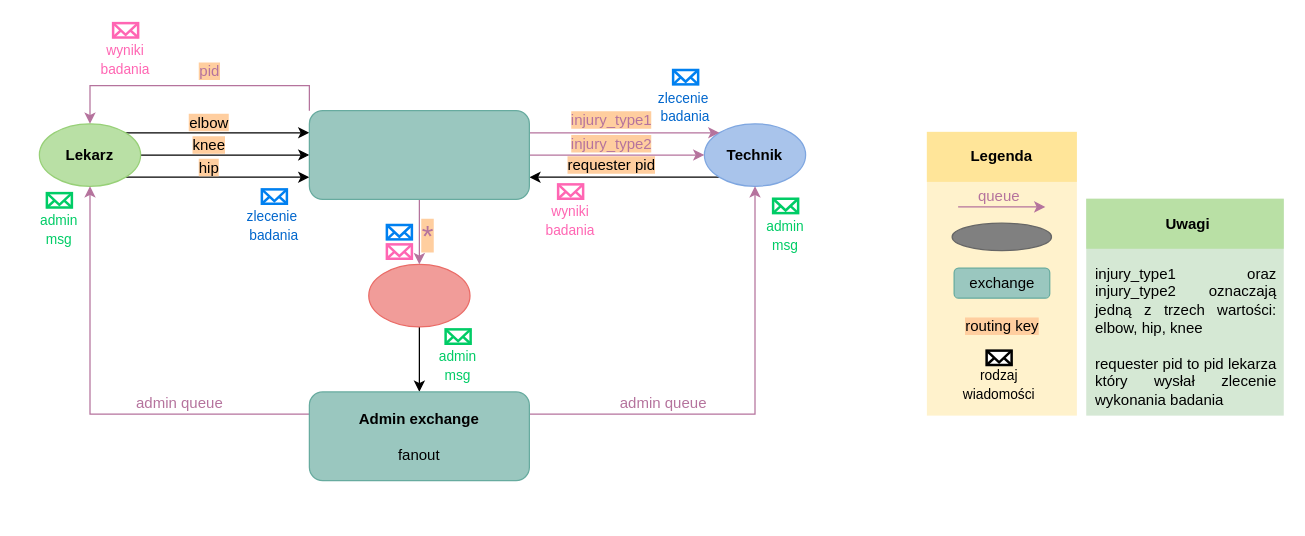
The diagram is 1305 pixels wide and 536 high, and some of its shapes have lost their labels. Here are the shapes that lost their labels. From the top down, the centre of each, then its label:
At (418,154): "Exchange topic".
At (1001,236): "service".
At (419,295): "Admin".
